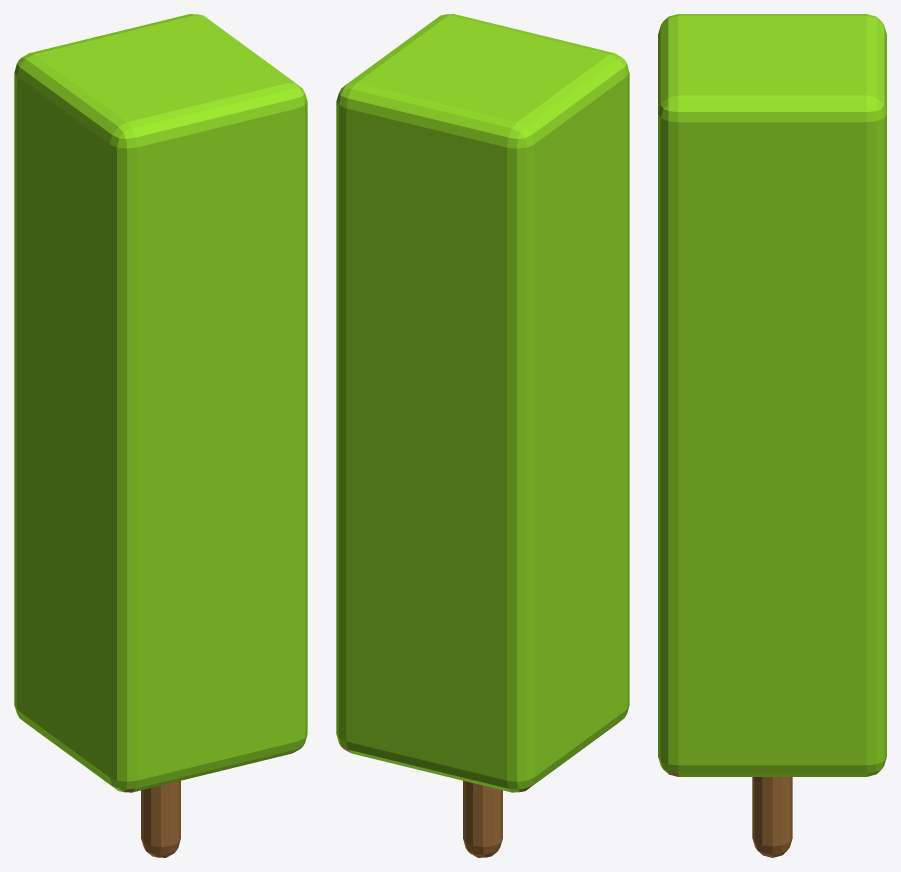
Rendered from HighTree.fbx.
3 views of the same model, side by side, from view 1: azimuth 30°, elevation 25°; view 2: azimuth 150°, elevation 25°; view 3: azimuth 270°, elevation 25° (orthographic).
Visible parts, largest first — view 1: Cube.116; view 2: Cube.116; view 3: Cube.116.
Boxes of the visible parts, x1=… form: Cube.116: x1=14, y1=14, x2=307, y2=857; Cube.116: x1=336, y1=14, x2=629, y2=857; Cube.116: x1=658, y1=14, x2=886, y2=857.
Size of the model in its own units: 0.5166 by 1.99 by 0.5166.
